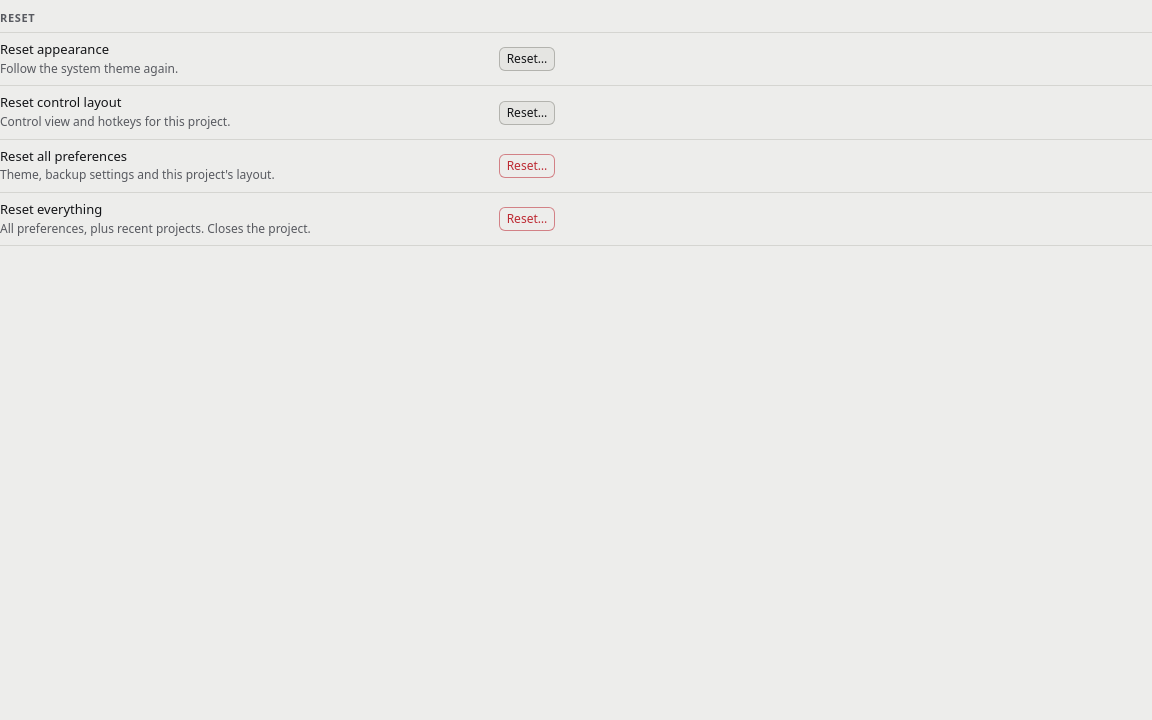
Test: ResetSection › describes Reset appearance as following the system theme again
Check: the text "Follow the system theme again." is shown, box [0, 60, 178, 76]
Click the button with aria-label "Reset appearance" at (527, 59), box [499, 47, 555, 71]
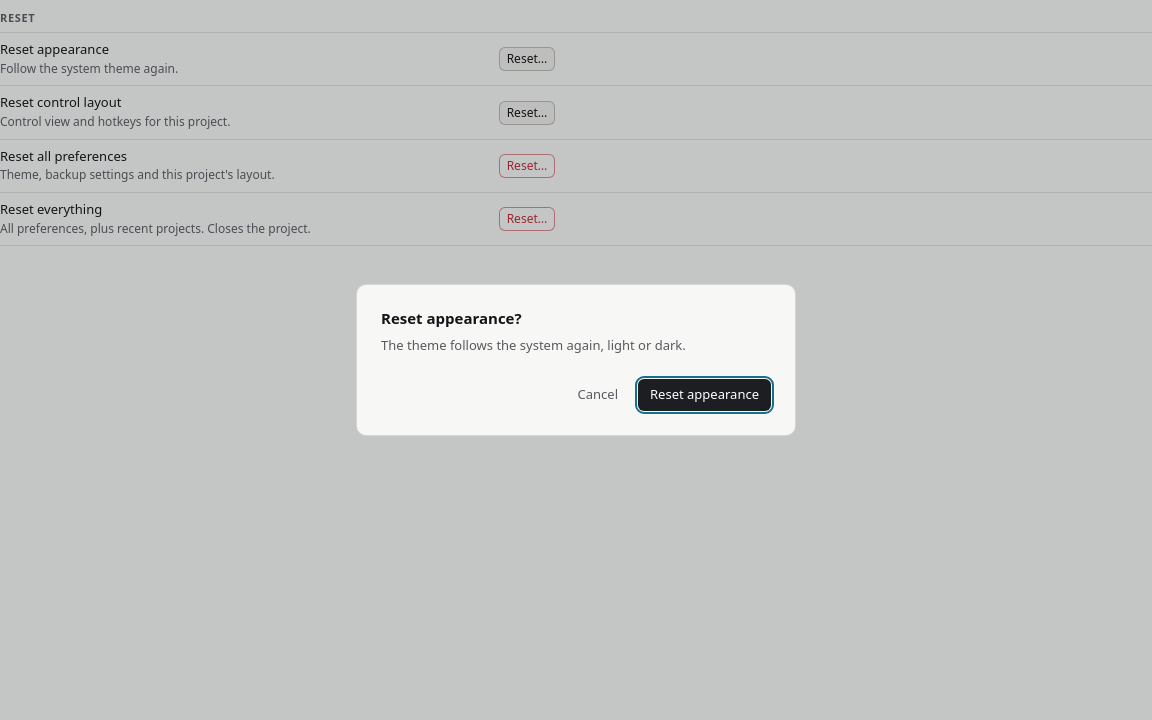
Check: the text "The theme follows the system again, light or dark." is shown, box [381, 336, 686, 354]
